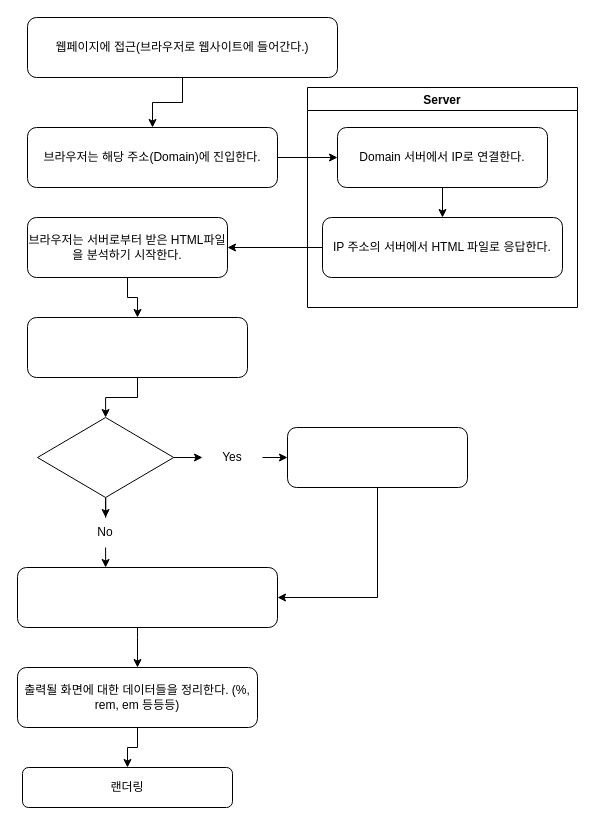
Some shapes in this 595 by 825 pixel diagram are drawn without their labels. The shapes that lost their labels are listed below. From the top down, each one's centre as x and y in pixels, then its label:
point (137, 347): 분석한 파일을 DOM 객체에 프로퍼티로 정의한다.
point (105, 457): CSS 내용이 있는가
point (377, 457): CSS 파일은 따로 정의를 한다. (CSS Parser)
point (147, 597): 분석한 DOM객체에 CSS 파일 정보를 추가한다.
